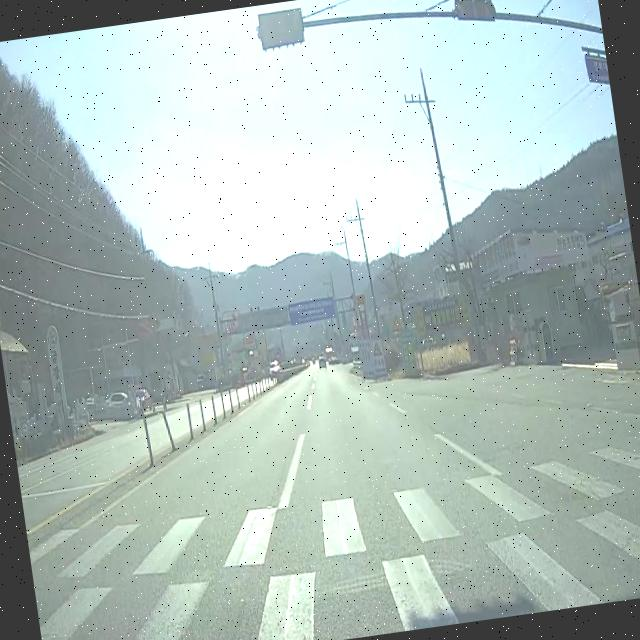crosswalk: (30, 433, 640, 640)
